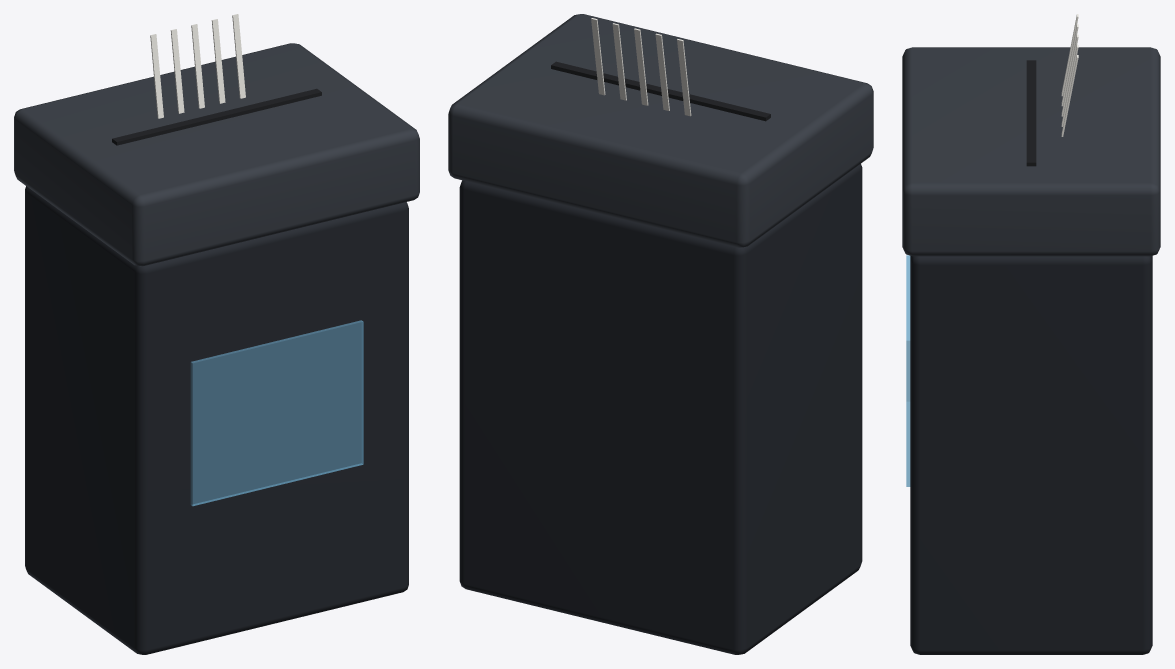
Rendered from Shredder.fbx.
3 views of the same model, side by side, from view 1: azimuth 30°, elevation 25°; view 2: azimuth 150°, elevation 25°; view 3: azimuth 270°, elevation 25° (orthographic). The views are drawn at different scales.
Parts seen in each view (by area): view 1: ShredderBody; view 2: ShredderBody; view 3: ShredderBody.
Part boxes in pixels (x1,y1,x2,y2): ShredderBody: (14,14,419,654); ShredderBody: (448,14,873,654); ShredderBody: (902,14,1160,654).
Size of the model in its own units: 0.42 by 0.7587 by 0.32.
